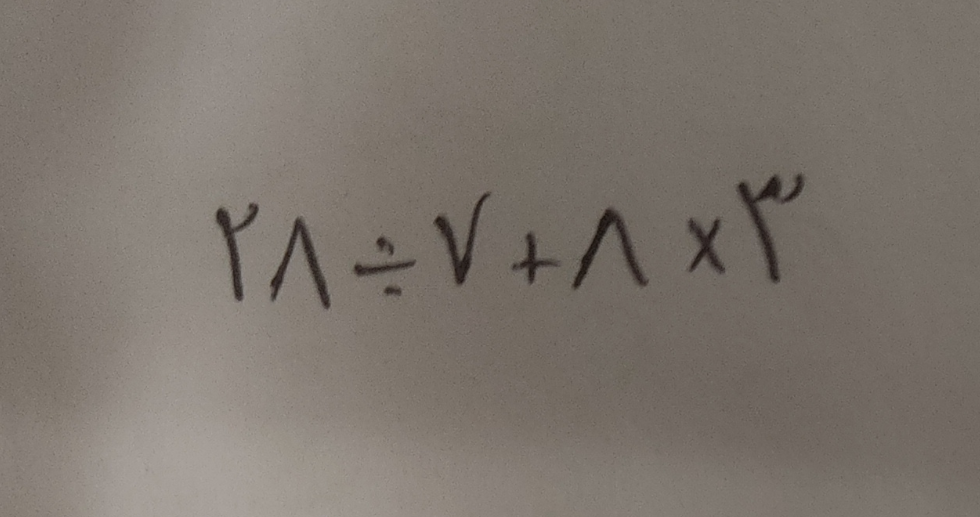character: (736, 171, 822, 294), (269, 215, 344, 325), (572, 205, 658, 298), (432, 190, 498, 295), (214, 199, 263, 315), (350, 237, 422, 306), (509, 230, 571, 300), (685, 215, 733, 286)
